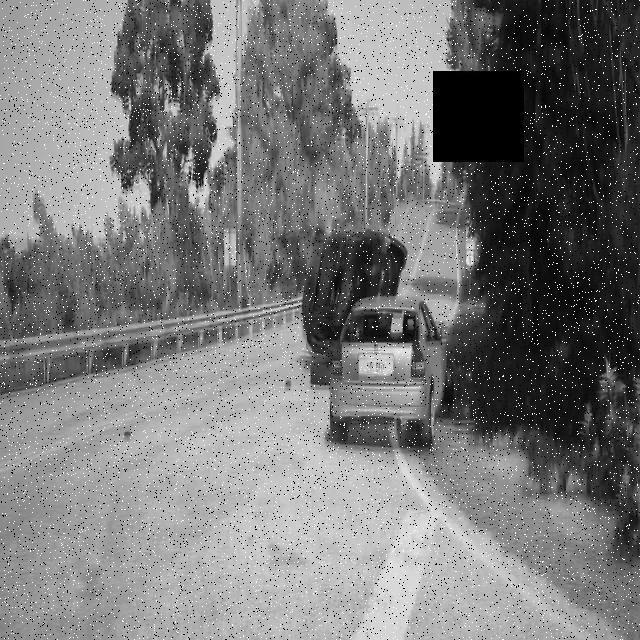accident: (298, 220, 415, 378)
vehicle: (332, 297, 448, 449)
